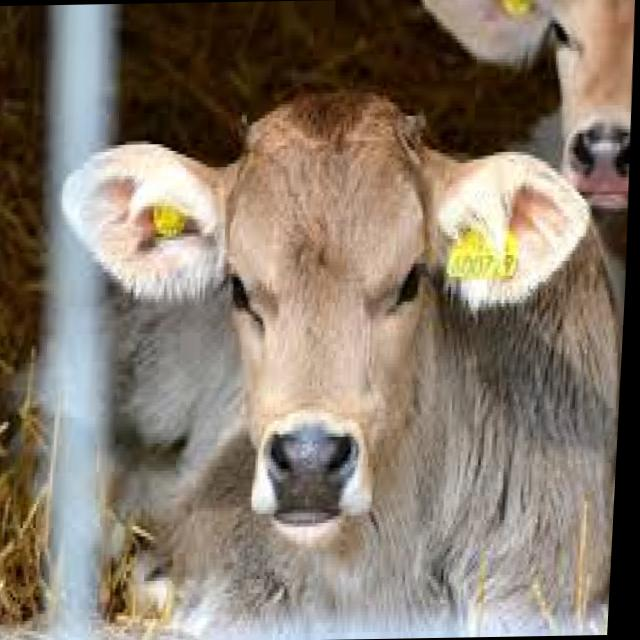cowFace: (26, 37, 598, 555)
